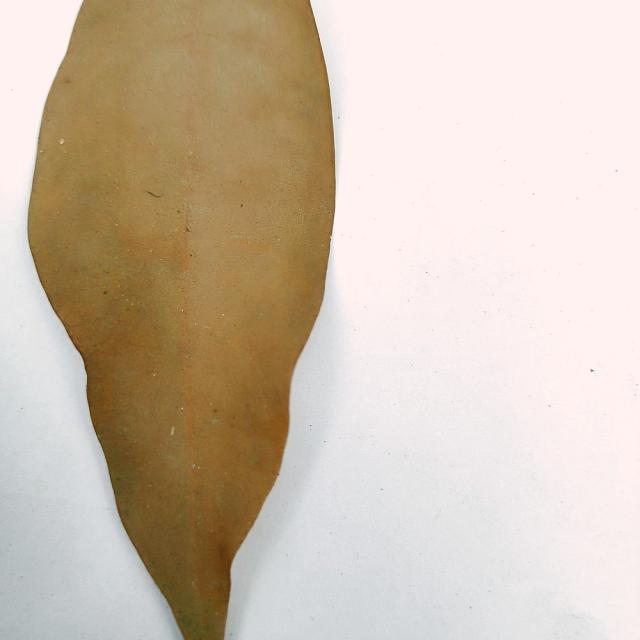Dry_Leaf-Lychee: (26, 0, 337, 639)
